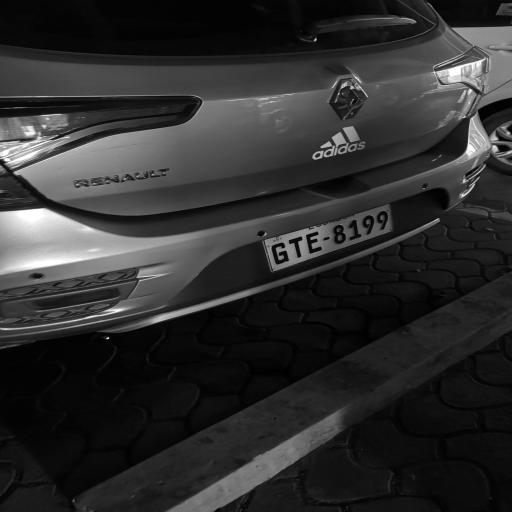license_plate: (264, 205, 392, 271)
